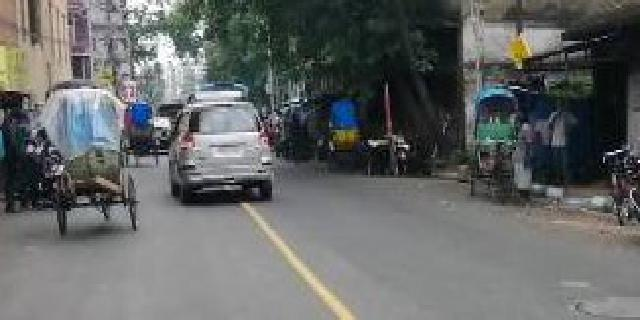Car: (163, 106, 284, 201)
Rickshaw: (33, 95, 144, 235), (461, 72, 530, 206)
